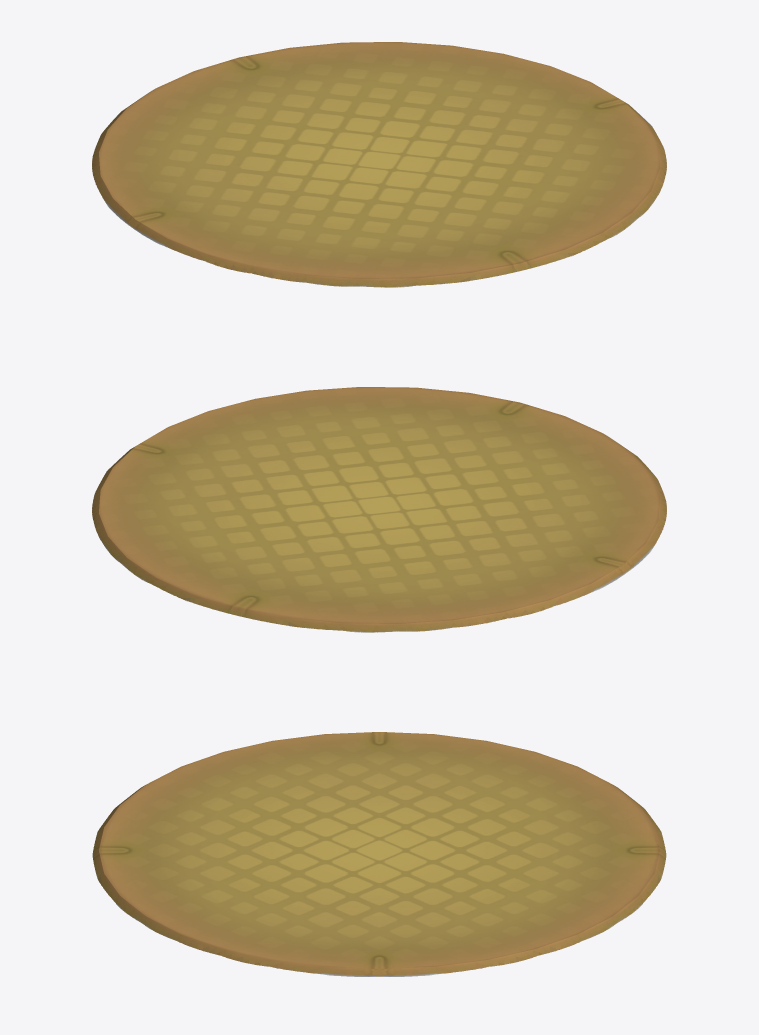
The model's file is pref_fx_NeutralScoreArea03_yellow_floor_lv3.fbx.
3 views of the same model, one above another, from view 1: azimuth 30°, elevation 25°; view 2: azimuth 150°, elevation 25°; view 3: azimuth 270°, elevation 25° (orthographic).
Visible parts, largest first — view 1: sm_prop_platform06a_lv3; view 2: sm_prop_platform06a_lv3; view 3: sm_prop_platform06a_lv3.
Part boxes in pixels (<box>): sm_prop_platform06a_lv3: <box>92,42,666,287</box>; sm_prop_platform06a_lv3: <box>92,387,666,632</box>; sm_prop_platform06a_lv3: <box>92,732,666,976</box>.
Bounding box in the file's own units: 7.46 × 0.2009 × 7.46.
